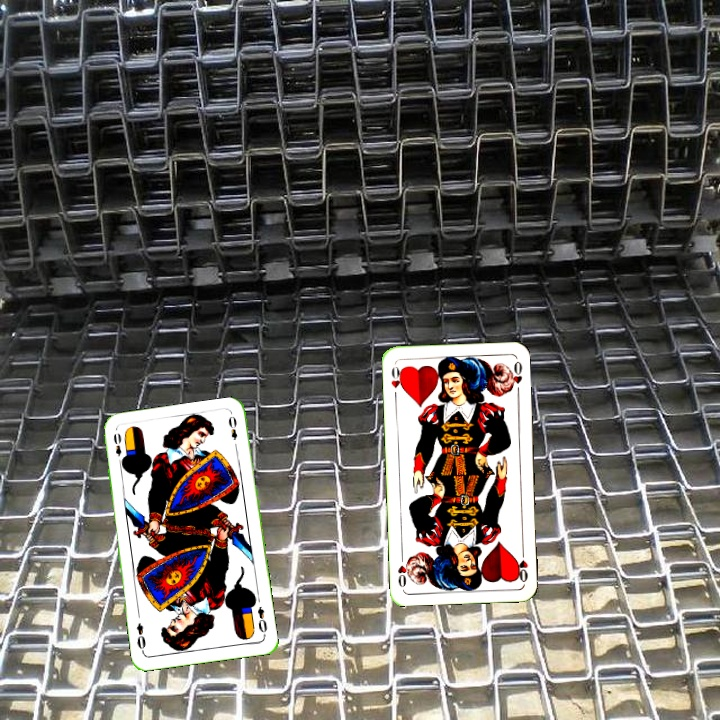EO: (109, 429, 127, 468), (253, 602, 270, 638)
HO: (513, 545, 531, 585), (387, 362, 405, 401)
